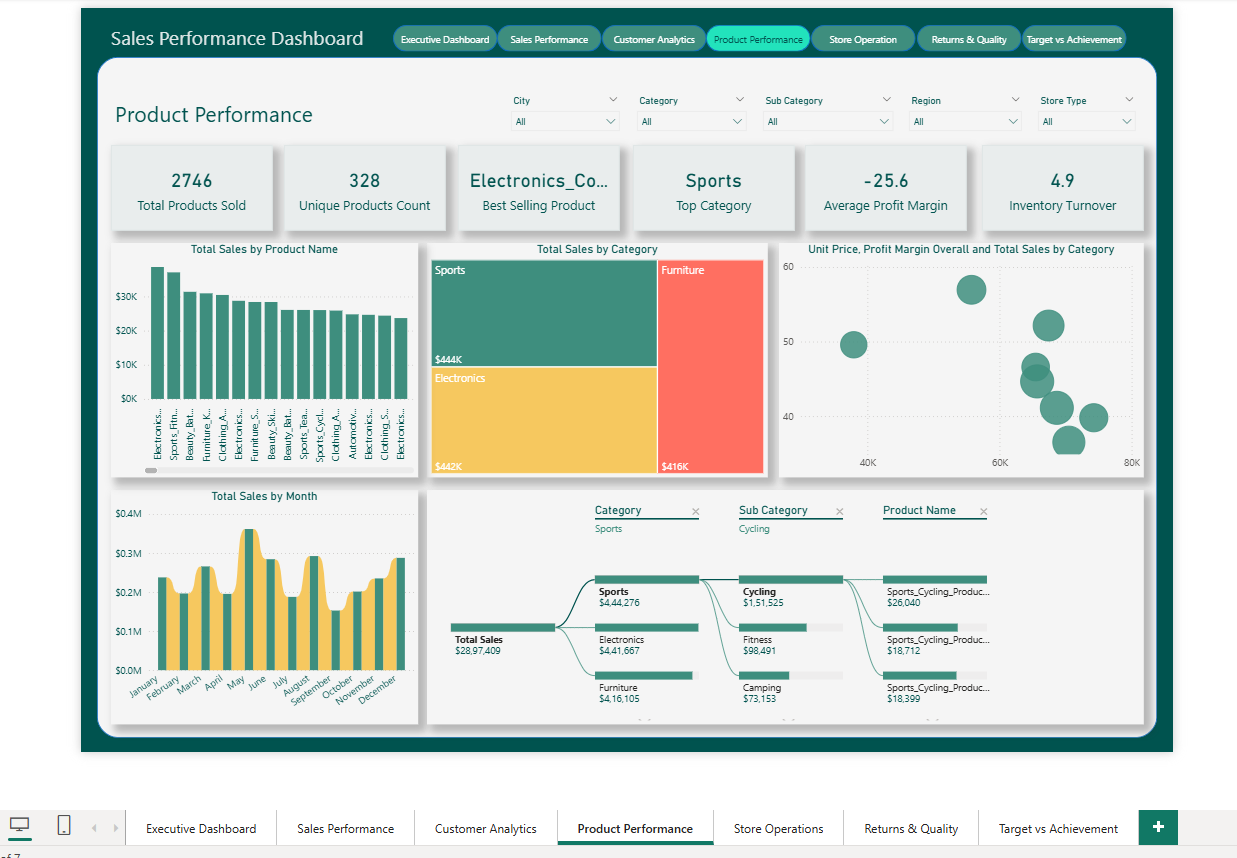

The dashboard page shown, as its layout file describes it:
{"tool":"powerbi","page":{"name":"Product Performance","canvas":[1365,930],"ordinal":3},"visuals":[{"type":"shape","box":[390.6,21.6,130.6,33.2],"z":0,"group":"g3"},{"type":"shape","box":[19.5,61.8,1325.1,851],"z":0},{"type":"slicer","fields":{"Values":["Customer.City"]},"box":[528,104.2,155.7,57.9],"z":0,"group":"g1"},{"type":"card","title":"Total Sales","fields":{"Values":["All Measures.Total Products Sold"]},"box":[37.8,171.8,201.8,106.5],"z":0,"group":"g2"},{"type":"shape","box":[521.2,21.6,130.6,33.2],"z":1000,"group":"g3"},{"type":"group","id":"g1","title":"Group 1","box":[528,104.2,800.6,57.3],"z":1000},{"type":"slicer","fields":{"Values":["Product.Category"]},"box":[685.9,104.2,156.8,57.9],"z":1000,"group":"g1"},{"type":"card","title":"Total Sales","fields":{"Values":["All Measures.Unique Products Count"]},"box":[253.9,171.8,201.8,106.5],"z":1000,"group":"g2"},{"type":"shape","box":[651.7,21.6,130.6,33.2],"z":2000,"group":"g3"},{"type":"slicer","fields":{"Values":["Store.Region"]},"box":[1025.3,104.2,161.3,57.9],"z":2000,"group":"g1"},{"type":"textbox","box":[37.8,108.8,292.1,52.7],"z":2000},{"type":"card","title":"Total Sales","fields":{"Values":["All Measures.Best Selling Product"]},"box":[471.2,171.8,201.8,106.5],"z":2000,"group":"g2"},{"type":"shape","box":[782.3,21.6,130.6,33.2],"z":3000,"group":"g3"},{"type":"slicer","fields":{"Values":["Store.StoreType"]},"box":[1186.6,104.2,142.2,57.9],"z":3000,"group":"g1"},{"type":"group","id":"g2","title":"Group 2","box":[37.8,171.8,1290.8,106.5],"z":3000},{"type":"card","title":"Total Sales","fields":{"Values":["All Measures.Top Category"]},"box":[689.8,171.8,201.8,106.5],"z":3000,"group":"g2"},{"type":"shape","box":[37.8,19.5,333.3,36.7],"z":4000},{"type":"shape","box":[912.9,21.6,130.6,33.2],"z":4000,"group":"g3"},{"type":"slicer","fields":{"Values":["Product.SubCategory"]},"box":[842.7,104.2,182.6,57.9],"z":4000,"group":"g1"},{"type":"card","title":"Total Sales","fields":{"Values":["All Measures.Average Profit Margin"]},"box":[905.9,171.8,201.8,106.5],"z":4000,"group":"g2"},{"type":"shape","box":[1045.7,21.6,130.6,33.2],"z":5000,"group":"g3"},{"type":"card","title":"Total Sales","fields":{"Values":["All Measures.Inventory Turnover"]},"box":[1126.8,171.8,201.8,106.5],"z":5000,"group":"g2"},{"type":"ribbonChart","fields":{"Y":["All Measures.Total Sales"],"Category":["Date.Date.Variation.Date Hierarchy.Month"]},"box":[37.8,602.4,383.7,293.2],"z":5000},{"type":"shape","box":[1176.3,21.6,130.6,33.2],"z":6000,"group":"g3"},{"type":"treemap","fields":{"Group":["Product.Category"],"Values":["All Measures.Total Sales"]},"box":[432.9,294.3,426.1,293.2],"z":6000},{"type":"scatterChart","fields":{"X":["Sum(Product.UnitPrice)"],"Y":["All Measures.Profit Margin Overall"],"Category":["Product.Category"],"Size":["All Measures.Total Sales"]},"box":[872.7,294.3,455.8,293.2],"z":7000},{"type":"decompositionTreeVisual","fields":{"ExplainBy":["Product.Category","Product.SubCategory","Product.ProductName"],"Analyze":["All Measures.Total Sales"]},"box":[432.9,602.4,895.6,293.2],"z":9000},{"type":"group","id":"g3","title":"Group 3","box":[390.6,21.6,916.3,33.2],"z":9008},{"type":"lineStackedColumnComboChart","fields":{"Category":["Product.ProductName"],"Y":["All Measures.Total Sales"]},"box":[37.8,294.3,383.7,293.2],"z":9009}]}

Visuals, with their boxes on the page's 1365x930 design canvas (x1, y1, x2, y2). These are canvas units, not pixel positions in the 1237x858 screenshot, which may show the page scaled, cropped or inside an application window:
shape: left=391, top=22, right=521, bottom=55
shape: left=20, top=62, right=1345, bottom=913
slicer - Customer.City: left=528, top=104, right=684, bottom=162
"Total Sales" card: left=38, top=172, right=240, bottom=278
shape: left=521, top=22, right=652, bottom=55
"Group 1" group: left=528, top=104, right=1329, bottom=162
slicer - Product.Category: left=686, top=104, right=843, bottom=162
"Total Sales" card: left=254, top=172, right=456, bottom=278
shape: left=652, top=22, right=782, bottom=55
slicer - Store.Region: left=1025, top=104, right=1187, bottom=162
textbox: left=38, top=109, right=330, bottom=162
"Total Sales" card: left=471, top=172, right=673, bottom=278
shape: left=782, top=22, right=913, bottom=55
slicer - Store.StoreType: left=1187, top=104, right=1329, bottom=162
"Group 2" group: left=38, top=172, right=1329, bottom=278
"Total Sales" card: left=690, top=172, right=892, bottom=278
shape: left=38, top=20, right=371, bottom=56
shape: left=913, top=22, right=1044, bottom=55
slicer - Product.SubCategory: left=843, top=104, right=1025, bottom=162
"Total Sales" card: left=906, top=172, right=1108, bottom=278
shape: left=1046, top=22, right=1176, bottom=55
"Total Sales" card: left=1127, top=172, right=1329, bottom=278
ribbonChart - All Measures.Total Sales x Date.Date.Variation.Date Hierarchy.Month: left=38, top=602, right=422, bottom=896
shape: left=1176, top=22, right=1307, bottom=55
treemap - Product.Category x All Measures.Total Sales: left=433, top=294, right=859, bottom=588
scatterChart - Sum(Product.UnitPrice) x All Measures.Profit Margin Overall: left=873, top=294, right=1328, bottom=588
decompositionTreeVisual - Product.Category x Product.SubCategory: left=433, top=602, right=1328, bottom=896
"Group 3" group: left=391, top=22, right=1307, bottom=55
lineStackedColumnComboChart - Product.ProductName x All Measures.Total Sales: left=38, top=294, right=422, bottom=588
